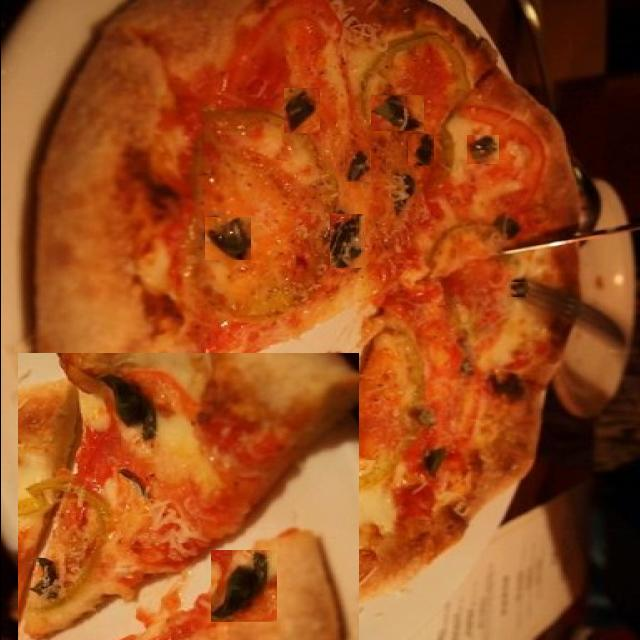basil: (210, 550, 276, 622), (203, 218, 250, 262), (370, 95, 423, 131), (329, 214, 364, 268), (283, 88, 319, 133), (389, 172, 418, 217), (416, 446, 447, 478), (466, 135, 498, 164), (407, 134, 433, 167), (344, 150, 370, 182), (491, 214, 522, 240), (506, 282, 527, 297)
pizza: (35, 0, 591, 611), (17, 353, 358, 640)
